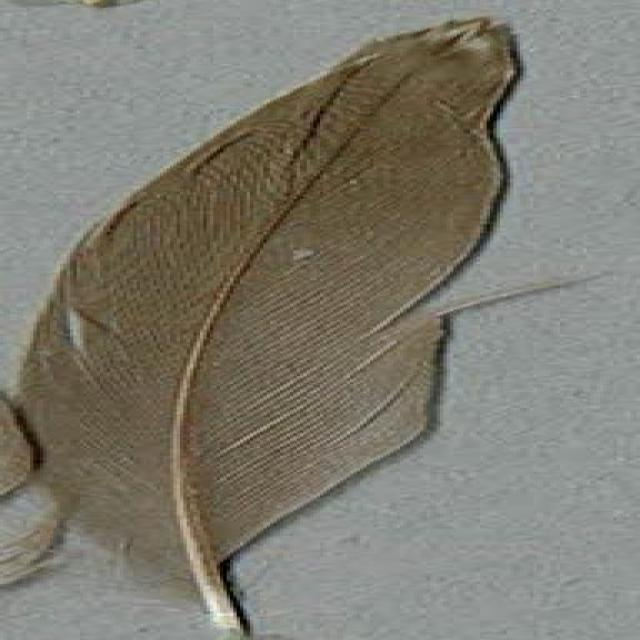feather: (9, 11, 534, 640)
